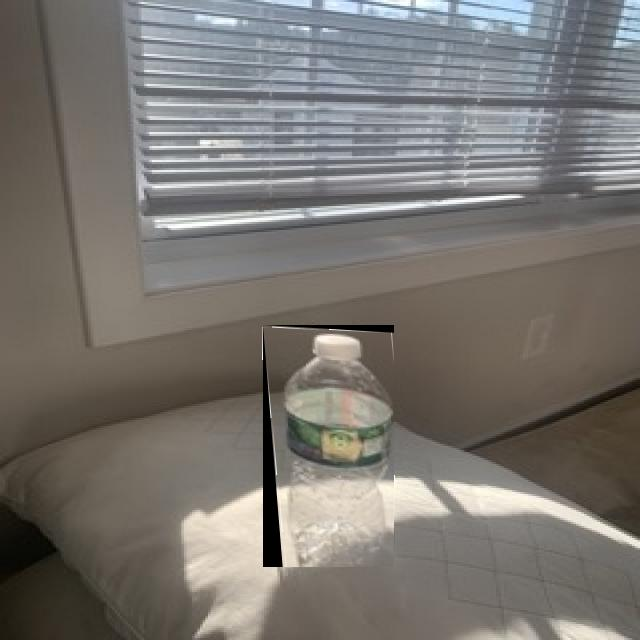water_bottle: (263, 325, 394, 567)
